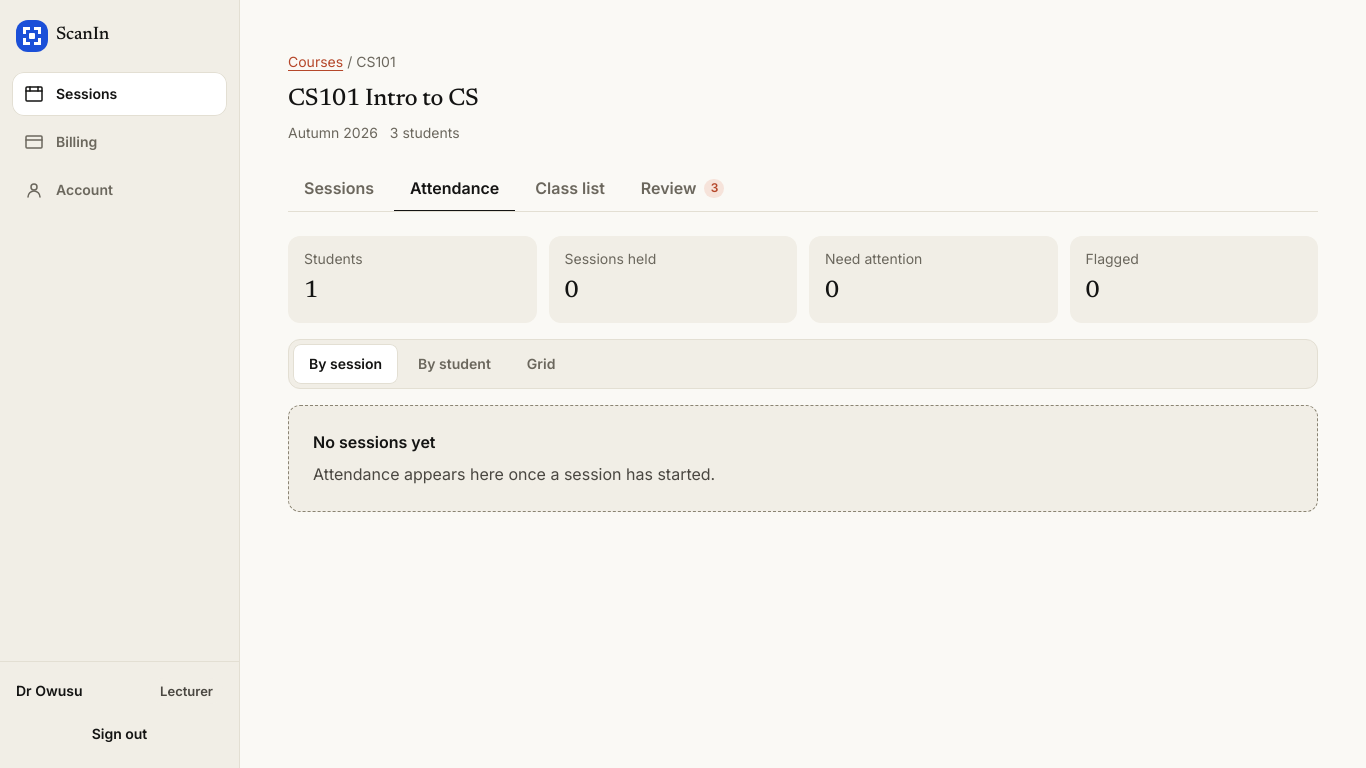
Test case: lecturer course workspace › keeps each student with the course they belong to: another course never appears here
This screenshot has width=1366, height=768.
Click the button "By student": x=454, y=364 [402, 344, 507, 384]
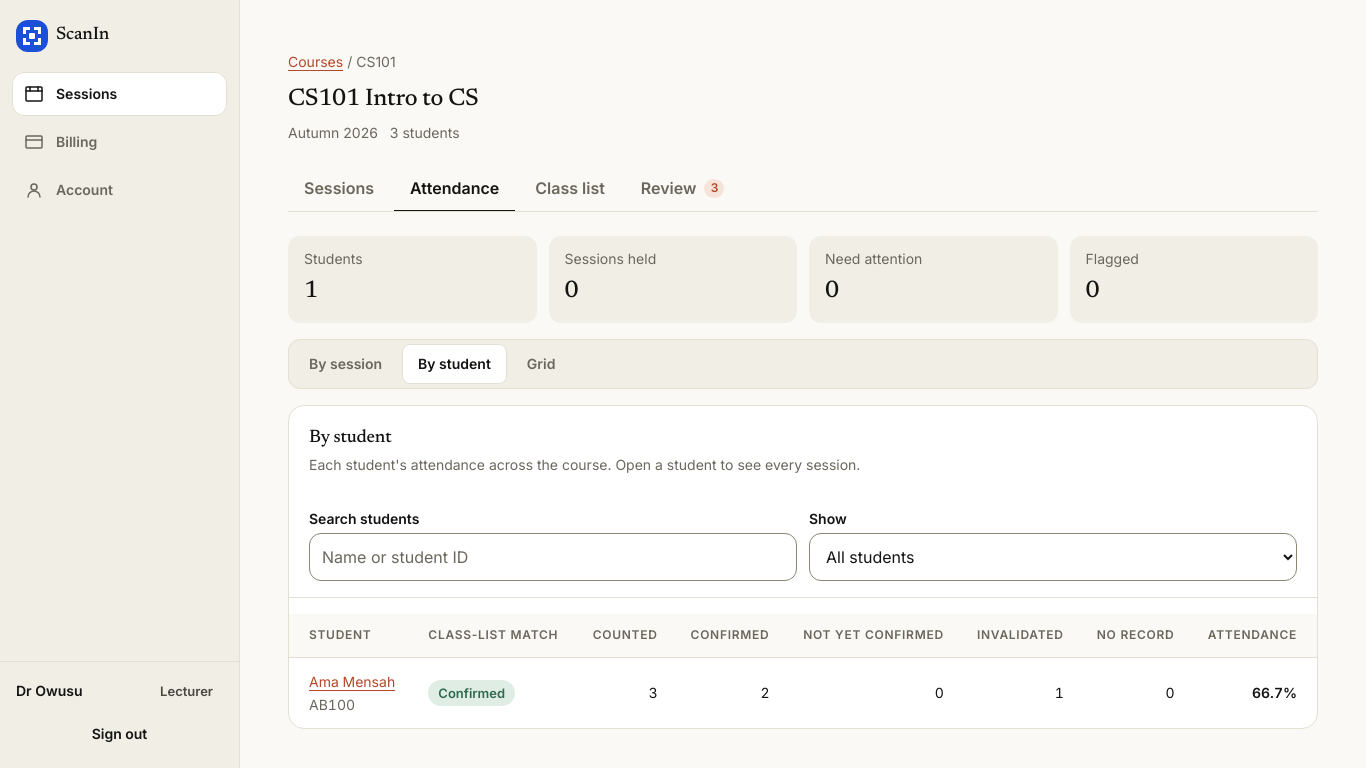
expect the table is shown: met, box [289, 614, 1317, 728]
